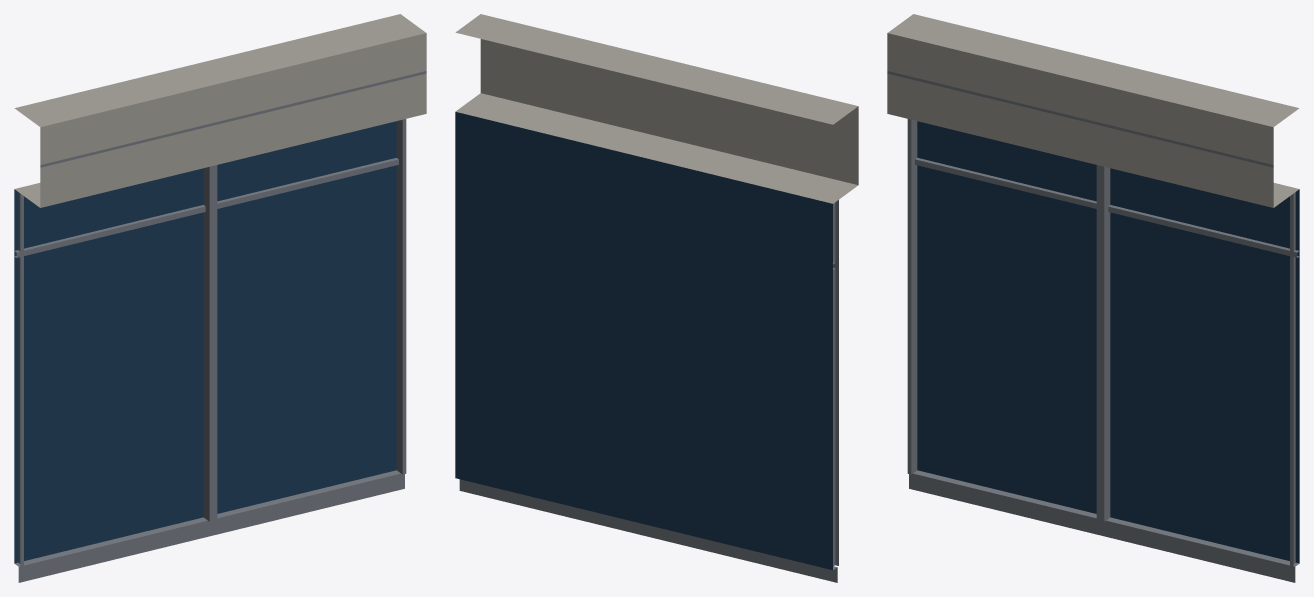
File: base-w1_close.fbx
3 views of the same model, side by side, from view 1: azimuth 30°, elevation 25°; view 2: azimuth 150°, elevation 25°; view 3: azimuth 330°, elevation 25° (orthographic). The views are drawn at different scales.
Visible parts, largest first — view 1: a2002/800/base-w1_close; view 2: a2002/800/base-w1_close; view 3: a2002/800/base-w1_close.
Boxes of the visible parts, x1,y1,x2,y2 form: a2002/800/base-w1_close: (14, 14, 426, 582); a2002/800/base-w1_close: (455, 14, 858, 582); a2002/800/base-w1_close: (887, 14, 1299, 582).
Size of the model in its own units: 3 by 3.5 by 0.352.
